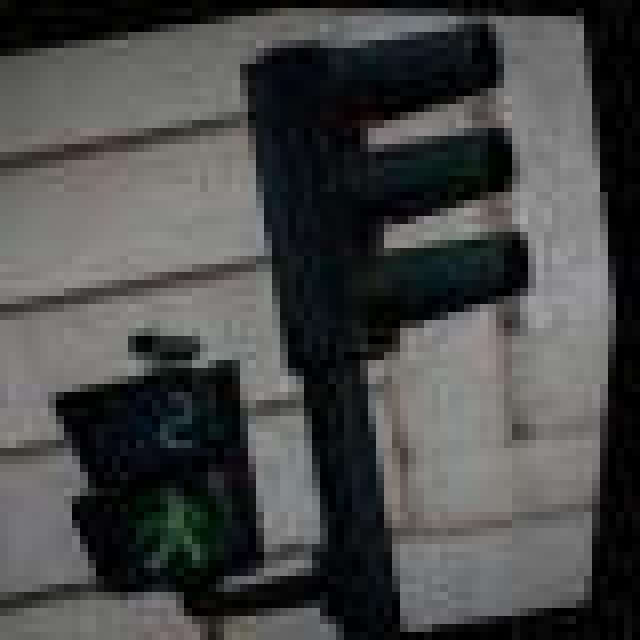greenlight: (68, 378, 257, 589)
